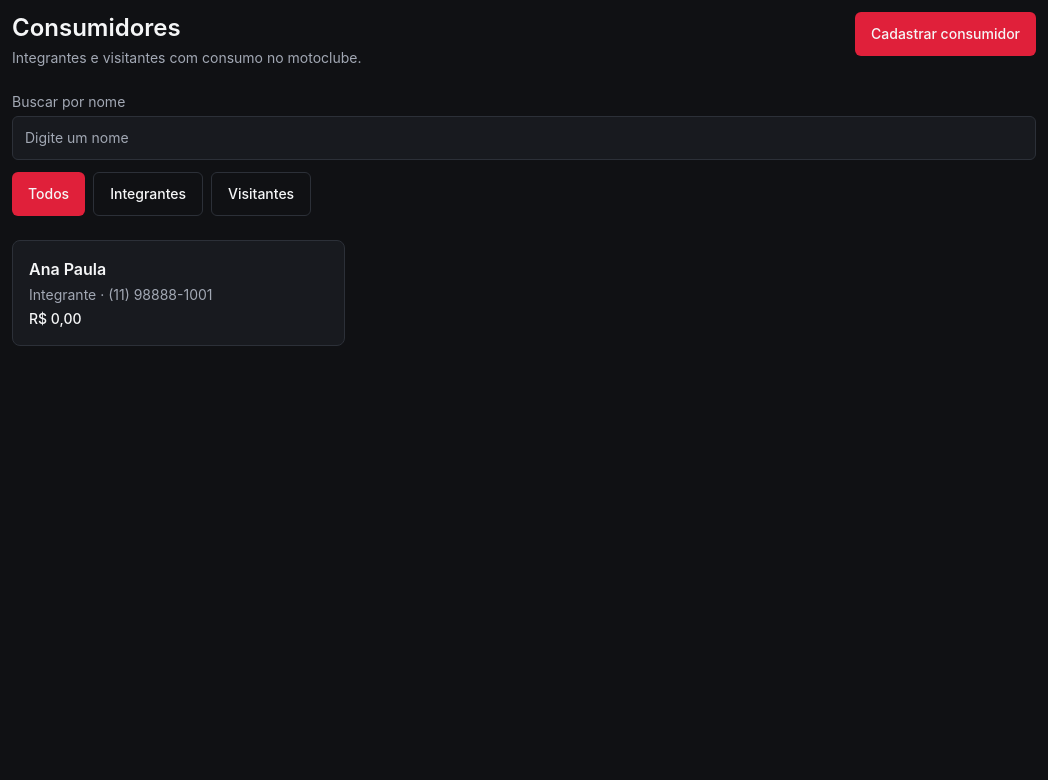
it: ConsumersView › defaults the new consumer to integrante
Click the button "Cadastrar consumidor": click(946, 34) [855, 12, 1036, 56]
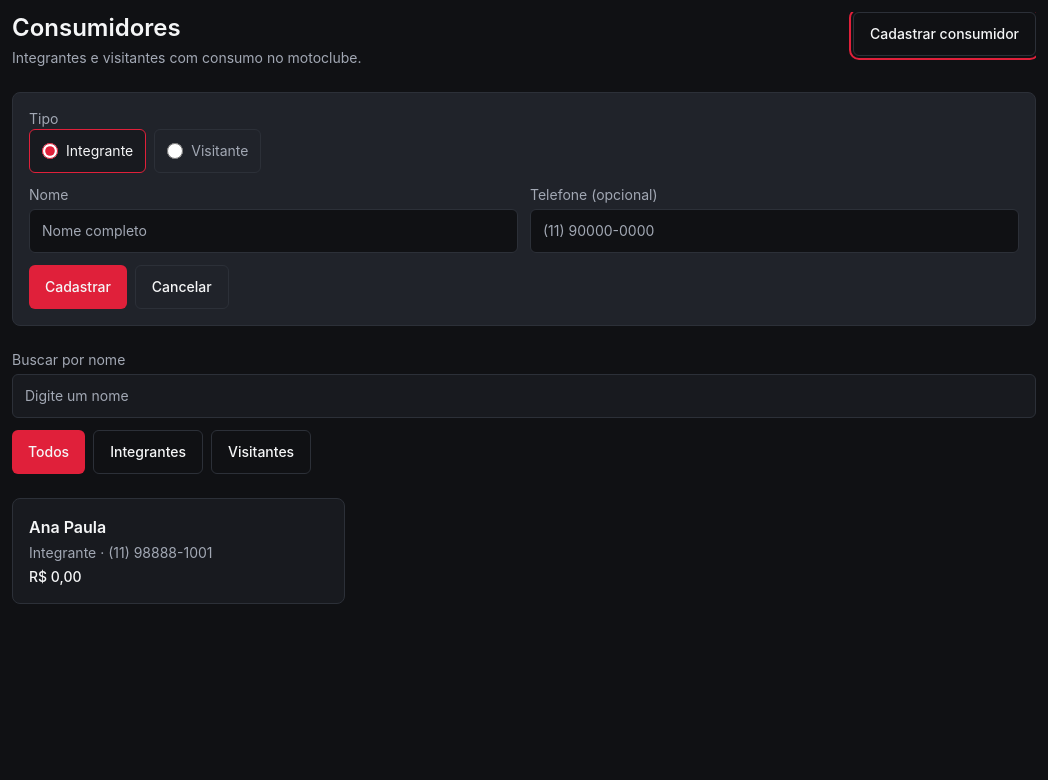
Result: the radio button labelled "Integrante" is checked at [42, 143, 58, 159]
